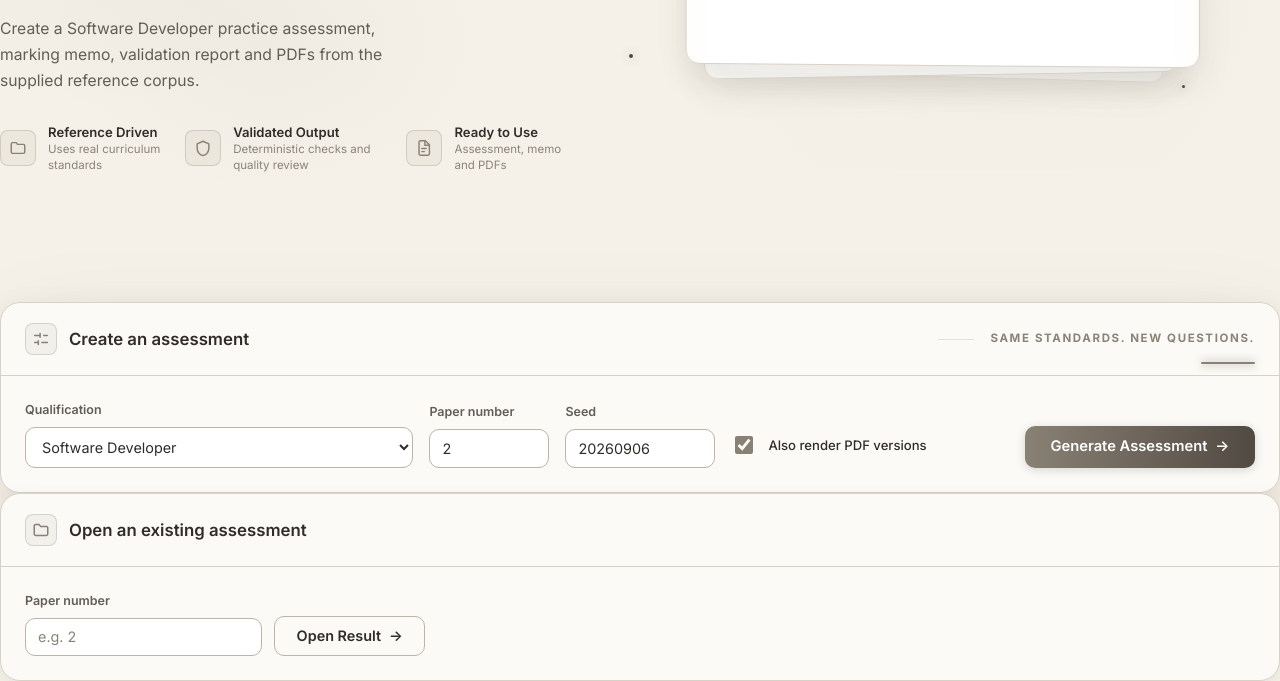
Dashboard › shows a clean server-error message on a 500 without leaking backend detail
(page scrolled)
Step 1. Click the button "Generate Assessment →" → click(1140, 447), box top-left (1025, 426), bottom-right (1255, 468)
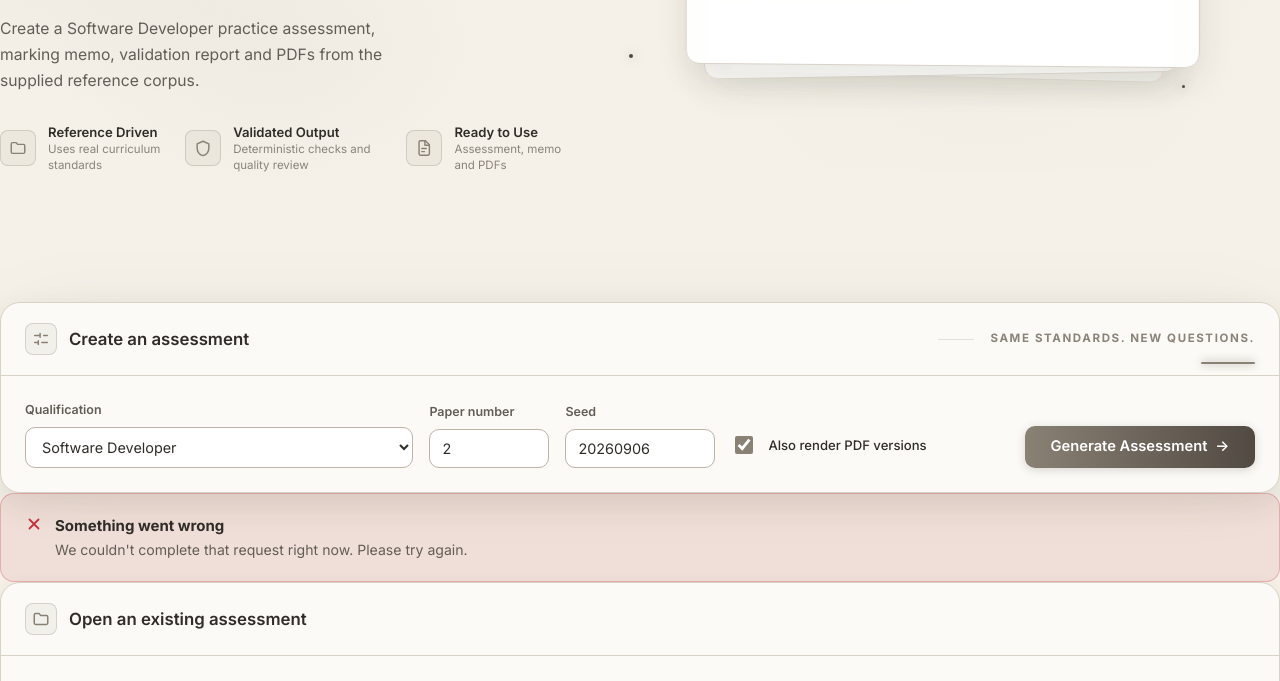
Expected: the message does not show "traceback", top-left (0, 492), bottom-right (1279, 582)
Expected: the message shows "Something went wrong", top-left (55, 516), bottom-right (224, 534)
